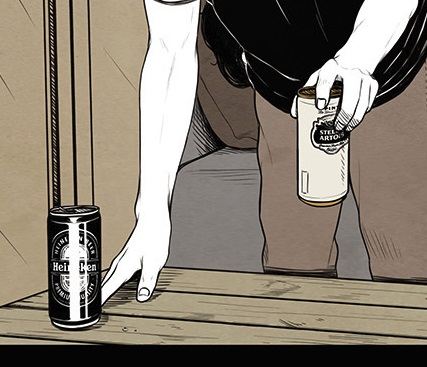beer: (42, 201, 105, 333), (290, 82, 354, 208)
can: (288, 79, 353, 209), (42, 198, 102, 335)
